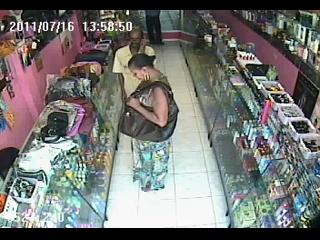Normal: (120, 54, 178, 192), (120, 53, 179, 143), (112, 27, 156, 100), (145, 10, 165, 45), (75, 50, 108, 65)
